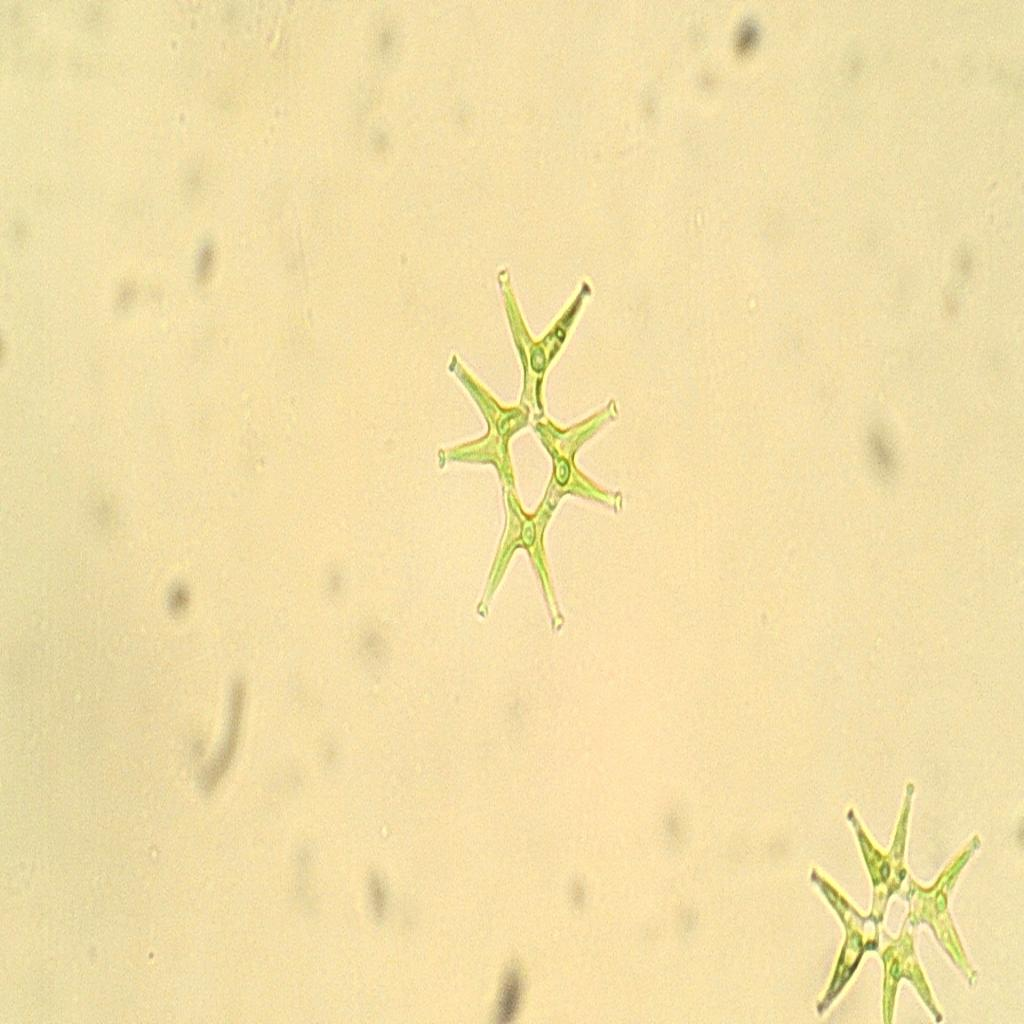Pediastrum_CT: (413, 223, 640, 680)
